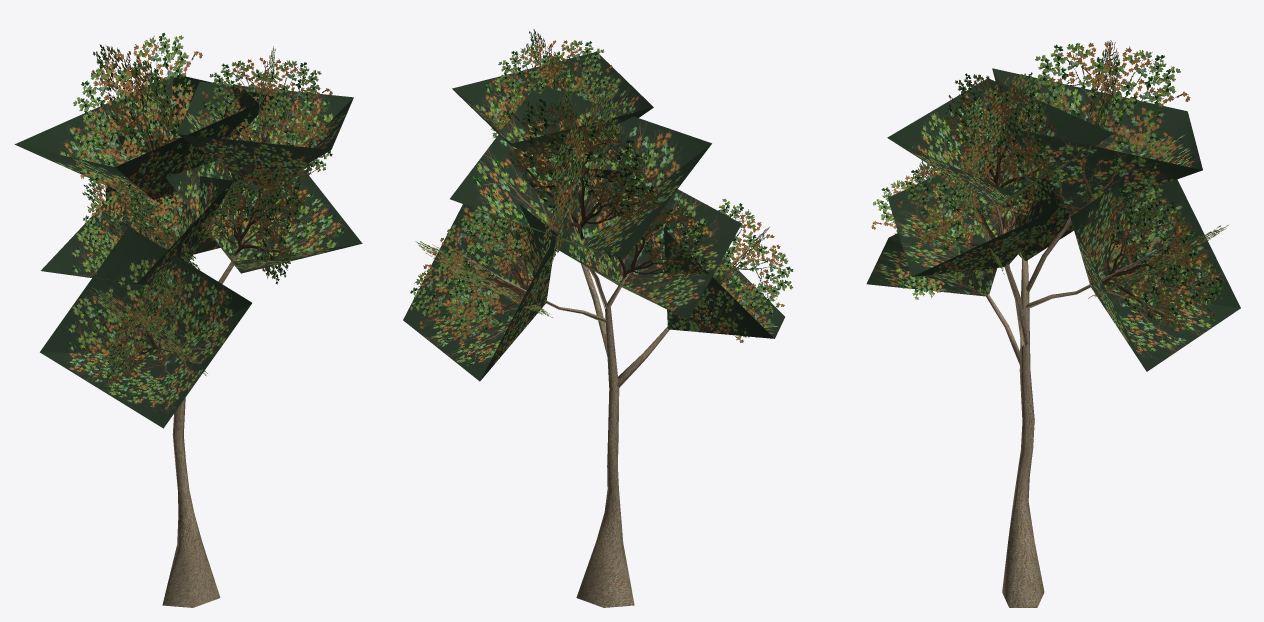
File: decd_mapletreeleaves_l0.fbx
3 renders of one model, left to right at view 1: azimuth 30°, elevation 25°; view 2: azimuth 150°, elevation 25°; view 3: azimuth 270°, elevation 25°, orthographic. The views are drawn at different scales.
Parts seen in each view (by area): view 1: mesh_node; view 2: mesh_node; view 3: mesh_node.
Part boxes in pixels (box(x1,y1,x2,y2)): mesh_node: box(14, 32, 362, 607); mesh_node: box(403, 29, 793, 607); mesh_node: box(866, 40, 1240, 607).
Size of the model in its own units: 10.07 by 16.47 by 10.56.
